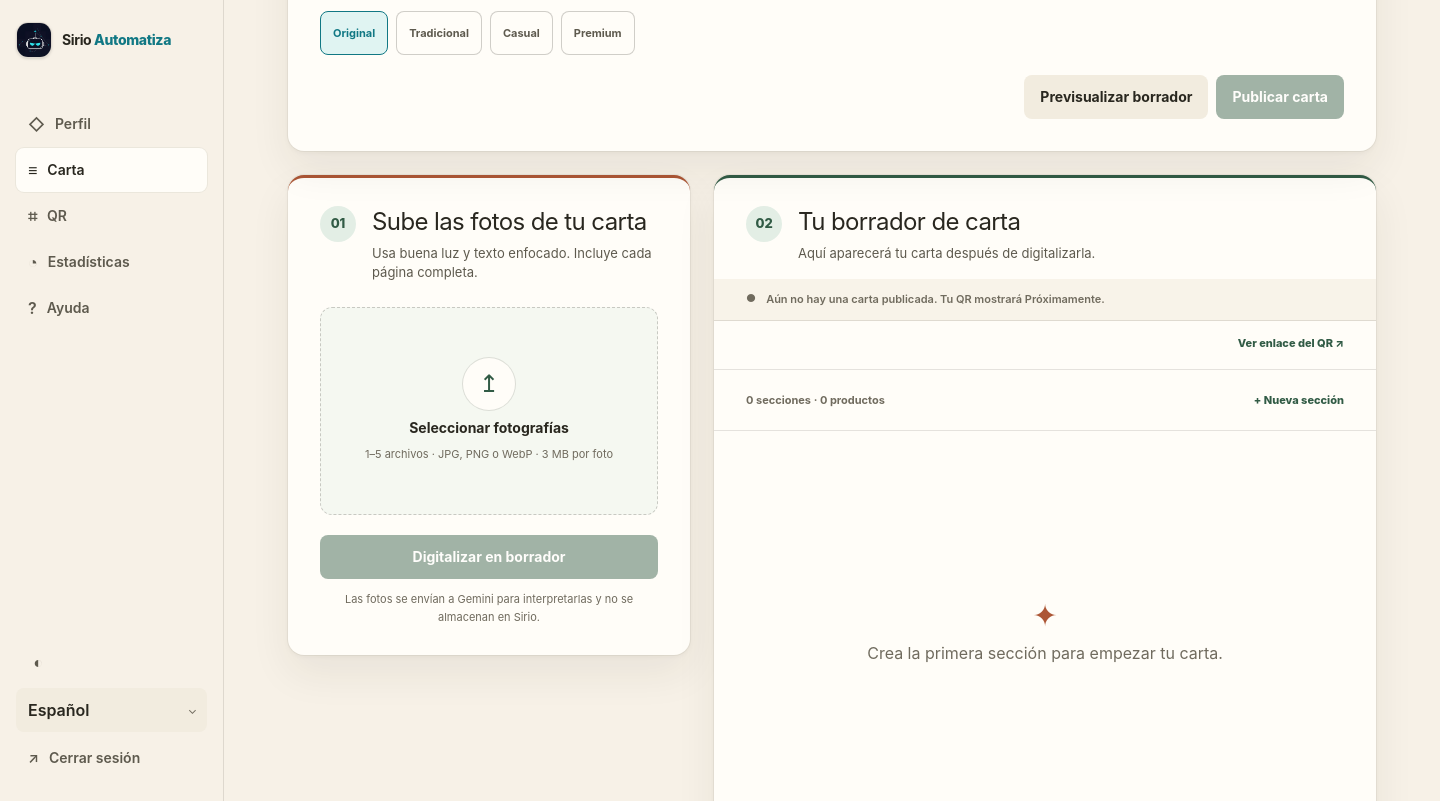
Test: MenuDigitizer › creates the first section from an empty menu
(page scrolled)
Check: the text "Crea la primera sección para empezar tu carta." is shown, box 867,641 -> 1223,665
Click the button "+ Nueva sección".
click(1299, 400)  # box 1254,378 -> 1344,422
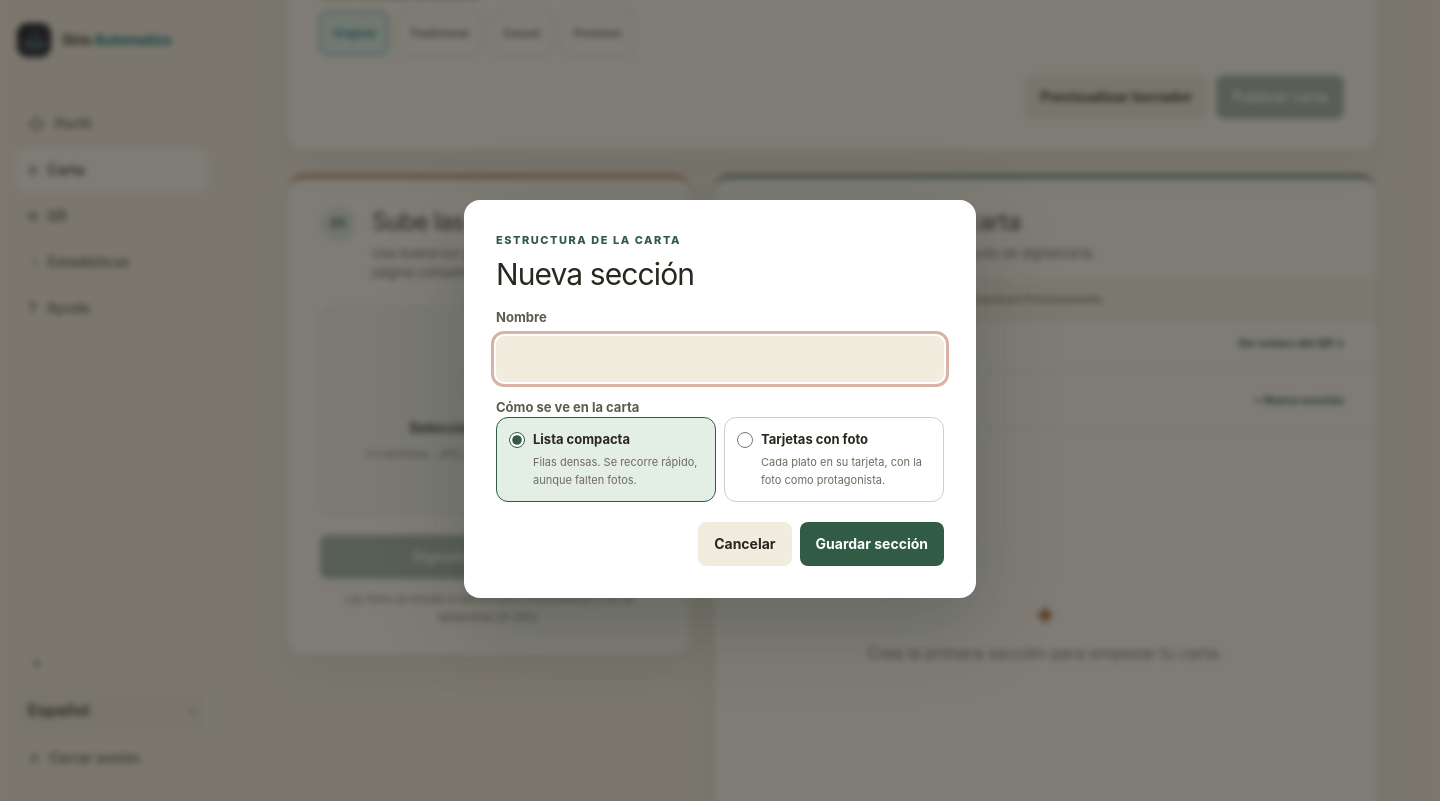
Type "Entradas" into the field labelled "Nombre".
click(720, 359); type("Entradas")  # box 496,336 -> 944,382
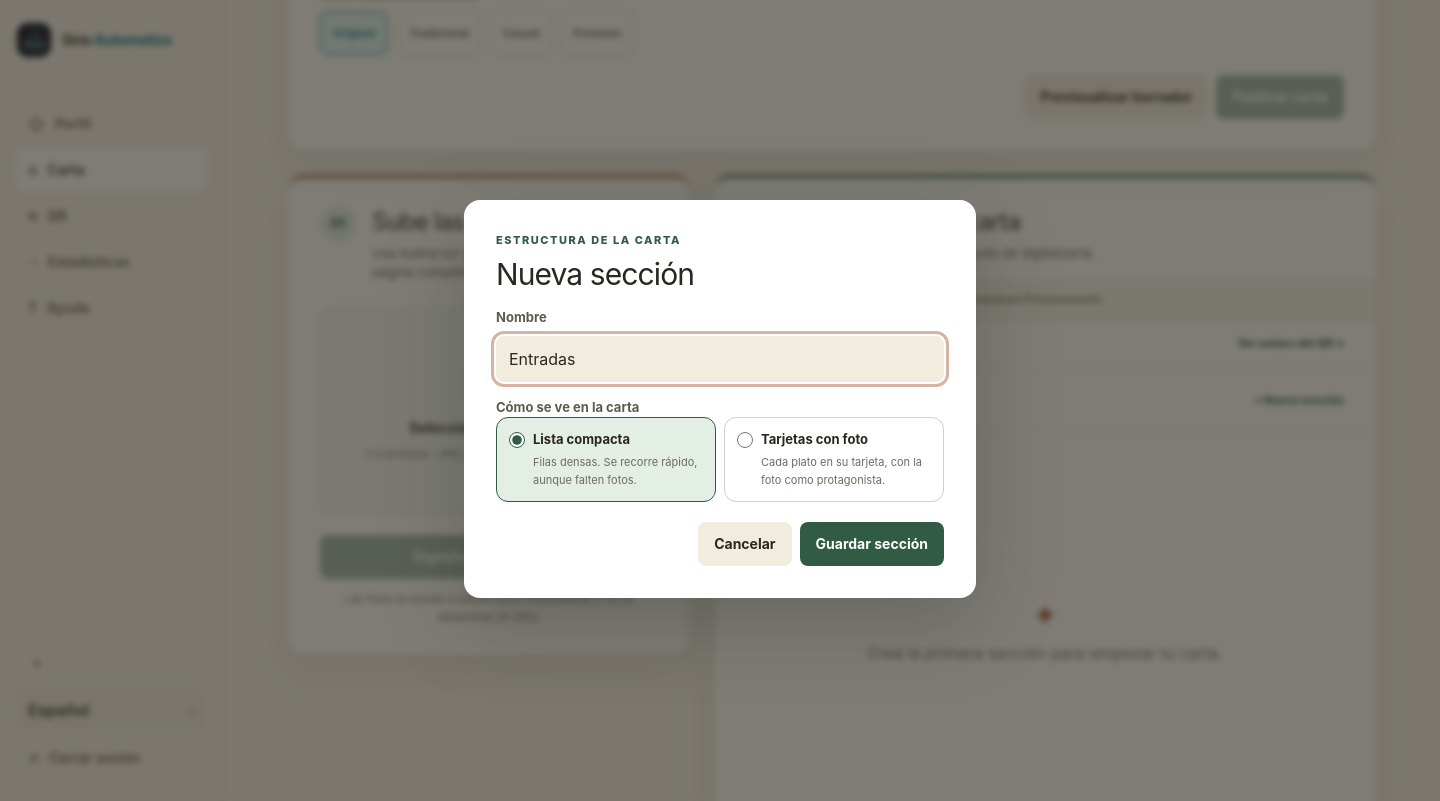
Submit the form "Nueva sección", box 464,200 -> 976,598
(page scrolled)
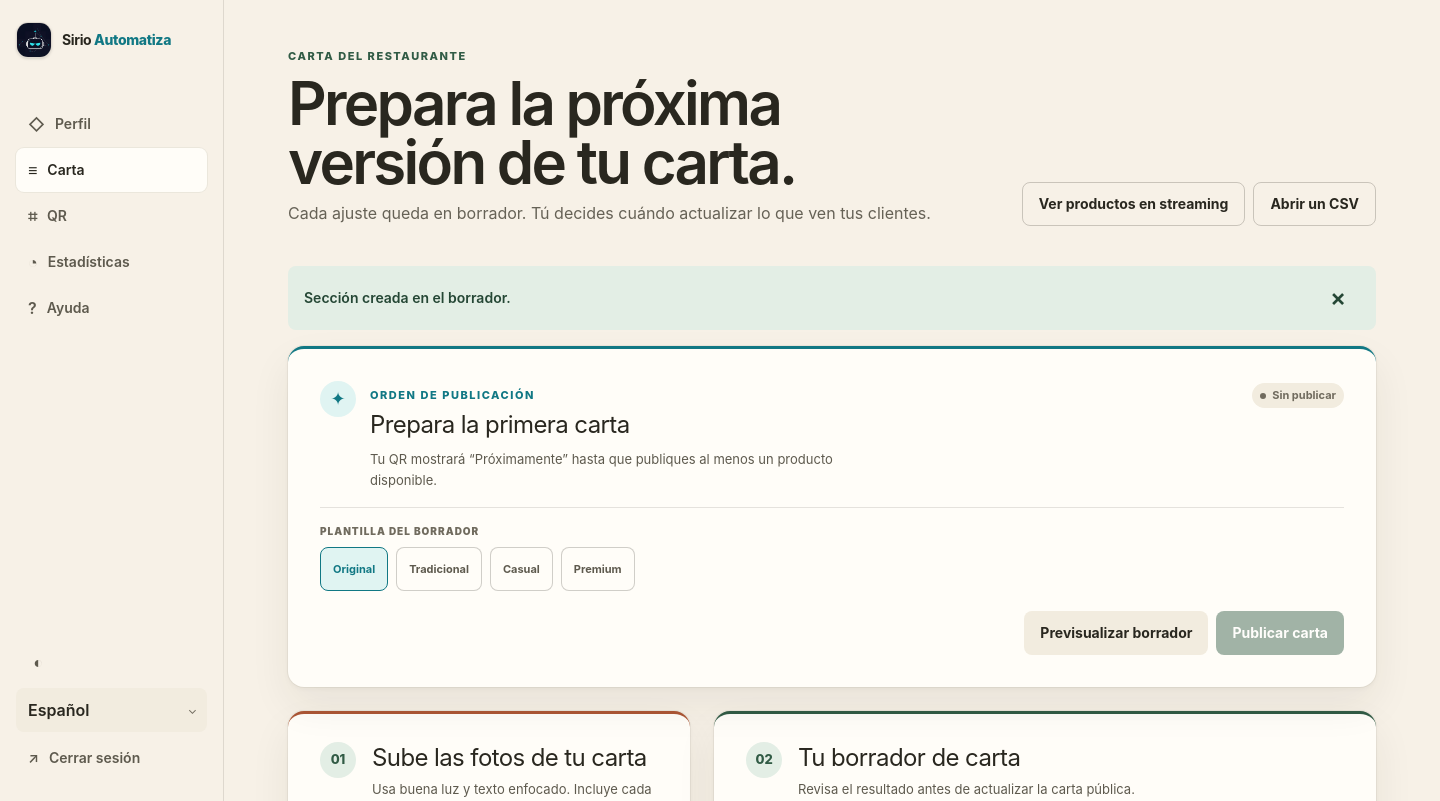
Check: the text "Sección creada en el borrador." is shown, box 304,288 -> 511,308
